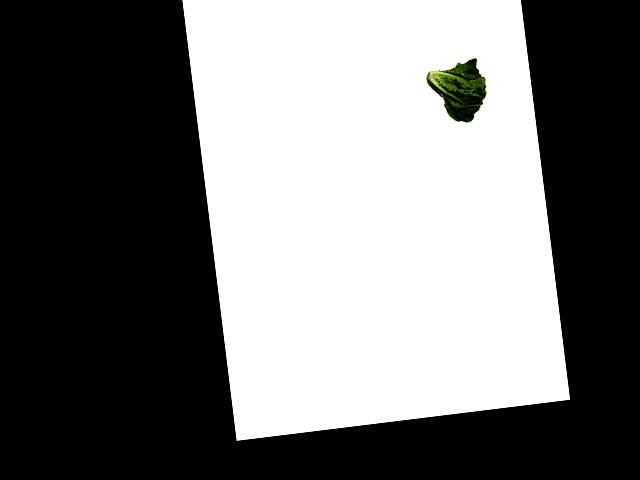lettuce: (421, 56, 492, 127)
